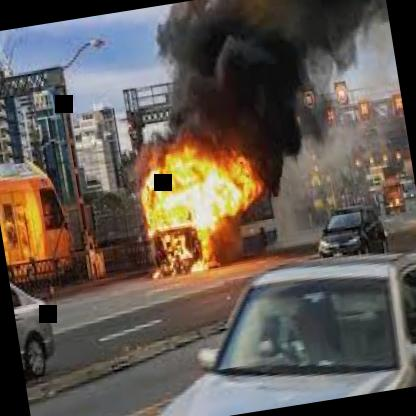fire: (120, 15, 310, 273)
